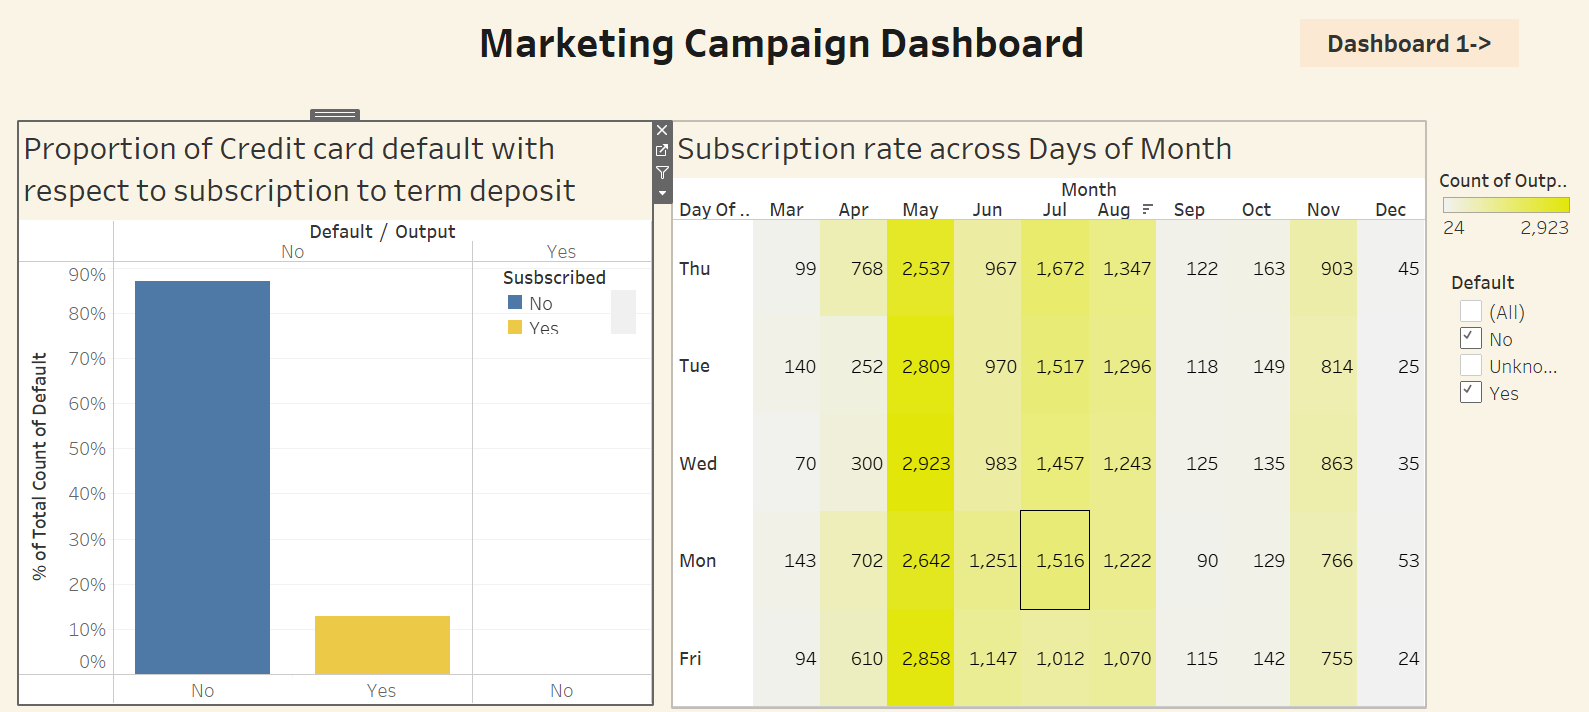

The dashboard page shown, as its layout file describes it:
{"tool":"tableau","page":{"name":"Dashboard 2","canvas":[1000,1000],"units":"permille","ordinal":1},"visuals":[{"type":"text","box":[14.5,36,957.2,83.1]},{"type":"dashboard-object","box":[816.1,48.4,136.2,64.5]},{"type":"worksheet","title":"Sheet 3","mark":"Automatic","rows":["Default"],"cols":["Default","Output"],"box":[17.5,186.1,394.8,780.4]},{"type":"worksheet","title":"Sheet 5","mark":"Square","rows":["Day_Of_Week"],"cols":["Month"],"box":[424.9,186.1,469,784.1]},{"type":"legend","title":"Sheet 5","param":"[federated.1fc7ozs0bqb2h718eqsms0s04eh4].[cnt:Output:qk]","box":[903,246.9,84.4,124.1]},{"type":"legend","title":"Sheet 3","param":"[federated.1fc7ozs0bqb2h718eqsms0s04eh4].[none:Output:nk]","box":[319.5,377.2,84.4,94.3]},{"type":"filter","title":"Sheet 3","param":"[federated.1fc7ozs0bqb2h718eqsms0s04eh4].[none:Default:nk]","box":[910.2,383.4,73.5,202.2]}]}

Visuals, with their boxes on the dashboard's canvas, which has no fixed pixel size, in thousandths of its width and height (x1, y1, x2, y2). These are canvas units, not pixel positions in the 1589x712 screenshot, which may show the page scaled, cropped or inside an application window:
text: <bbox>14, 36, 972, 119</bbox>
dashboard-object: <bbox>816, 48, 952, 113</bbox>
"Sheet 3" worksheet: <bbox>18, 186, 412, 966</bbox>
"Sheet 5" worksheet (Square marks): <bbox>425, 186, 894, 970</bbox>
"Sheet 5" legend: <bbox>903, 247, 987, 371</bbox>
"Sheet 3" legend: <bbox>320, 377, 404, 472</bbox>
"Sheet 3" filter: <bbox>910, 383, 984, 586</bbox>
